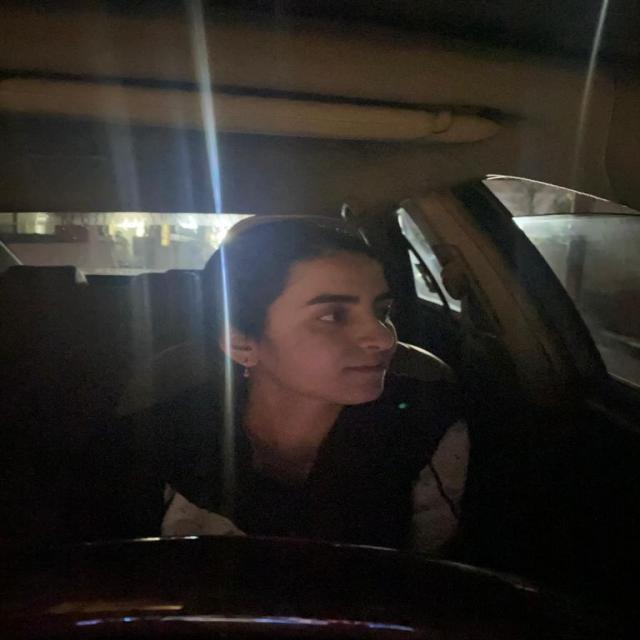person: (198, 233, 420, 413)
